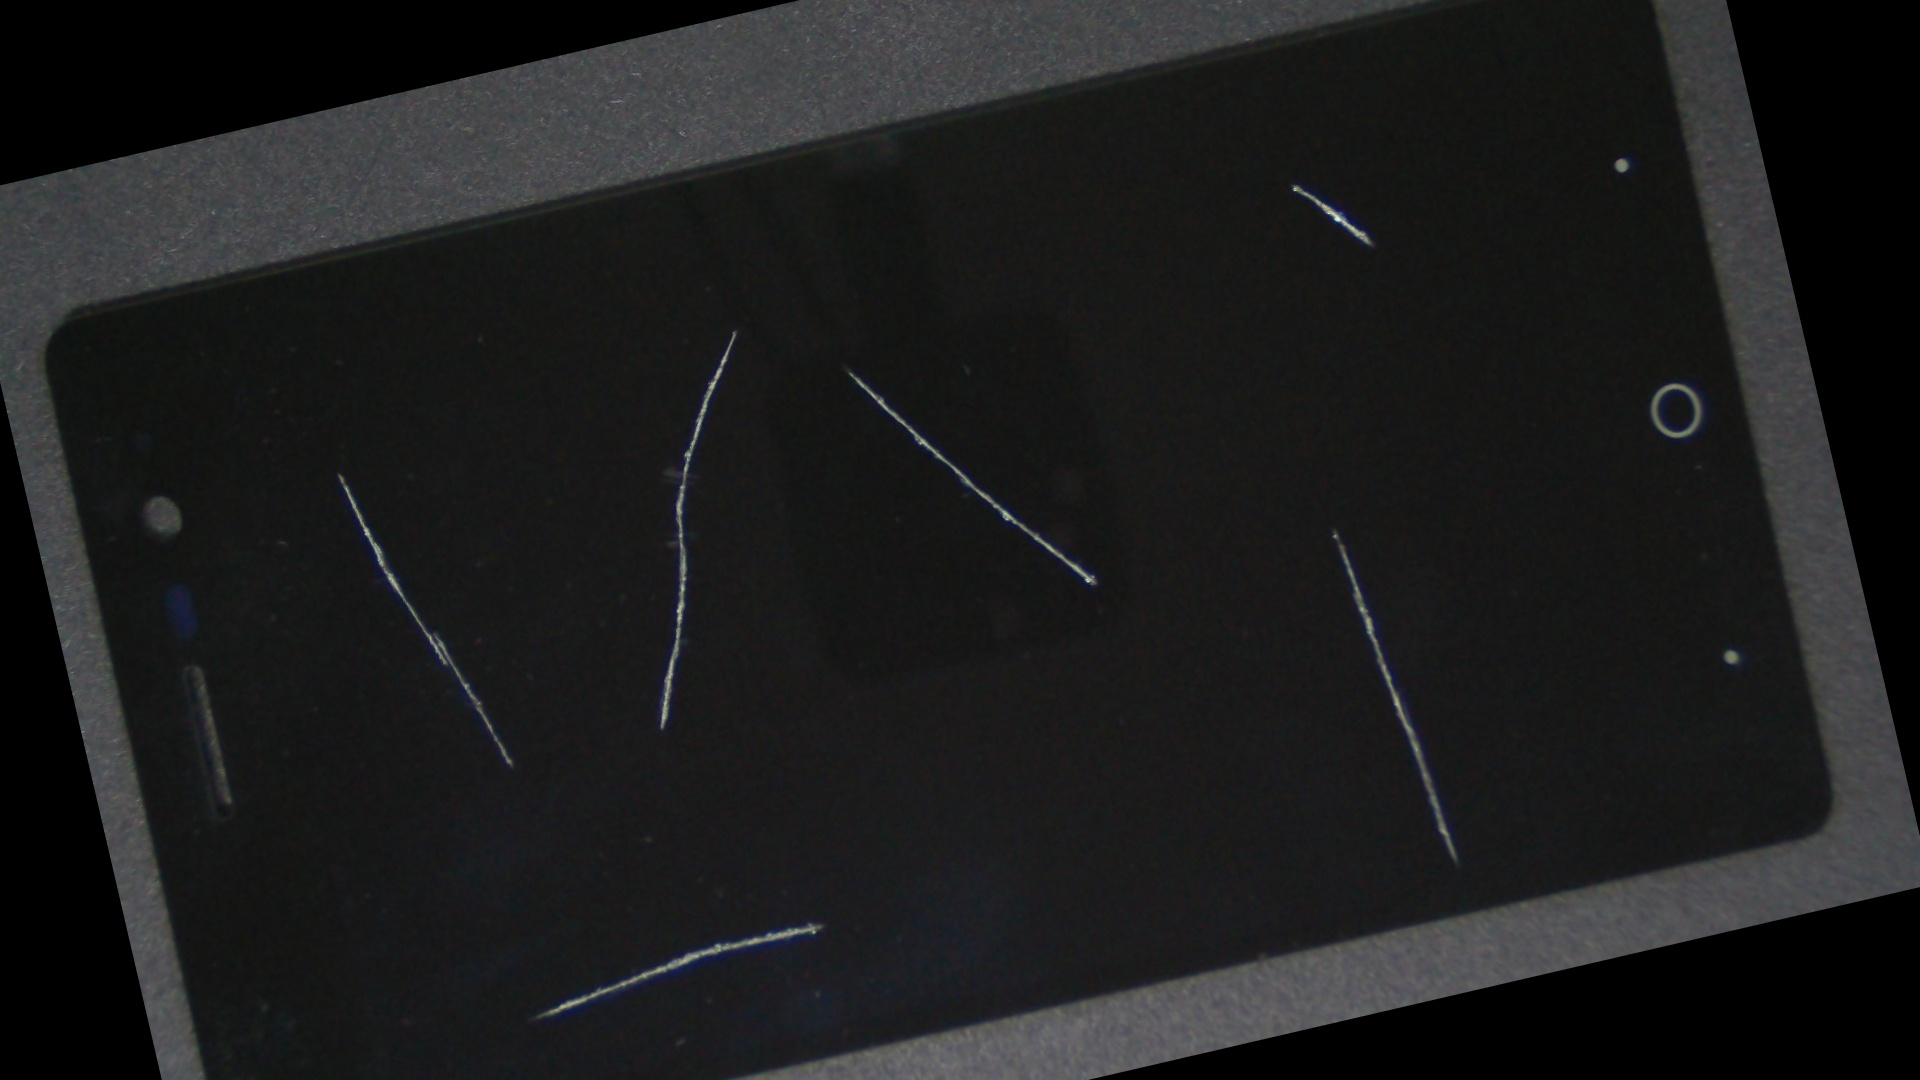oil: (645, 104, 1894, 980), (625, 0, 1778, 473), (402, 95, 1291, 642), (336, 440, 1040, 1080), (347, 96, 1124, 560), (148, 264, 529, 679)
